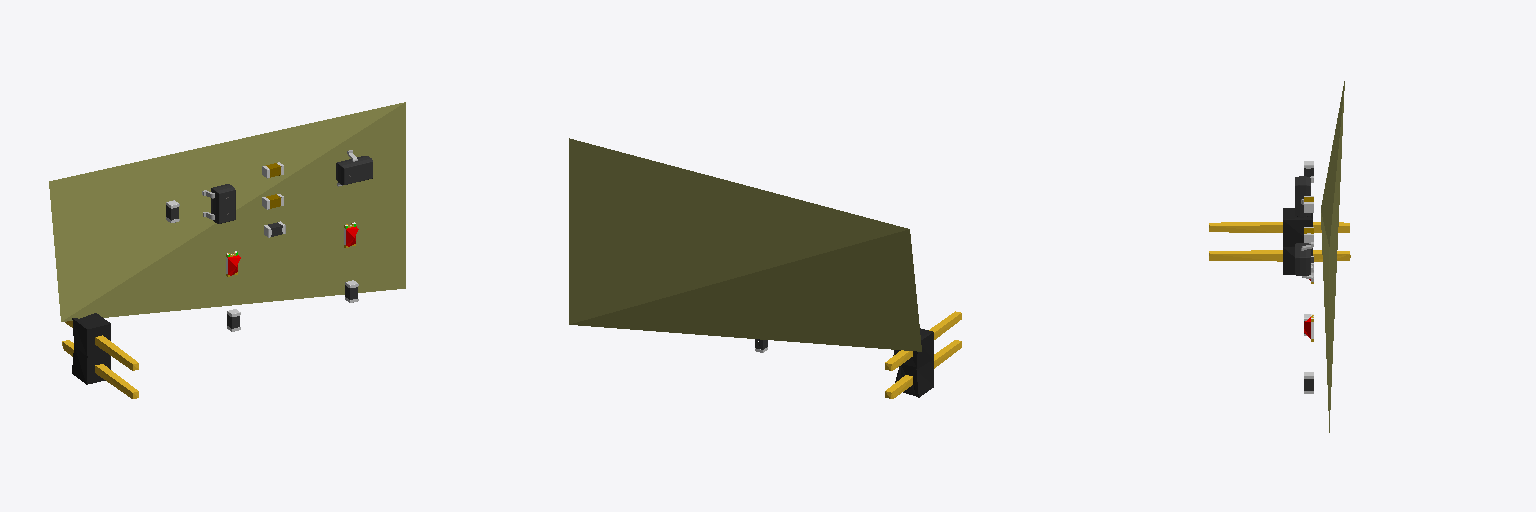
Rendered from OBJ_PCB_2020-08-09_22-29-28.obj.
3 views of the same model, side by side, from view 1: azimuth 30°, elevation 25°; view 2: azimuth 150°, elevation 25°; view 3: azimuth 270°, elevation 25° (orthographic).
Bounding box in the file's own units: 129 × 65.73 × 45.17.